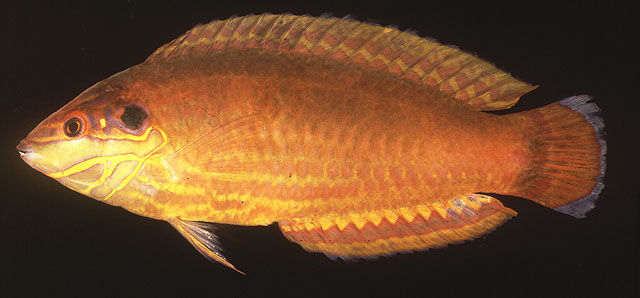fish: (16, 12, 609, 276)
